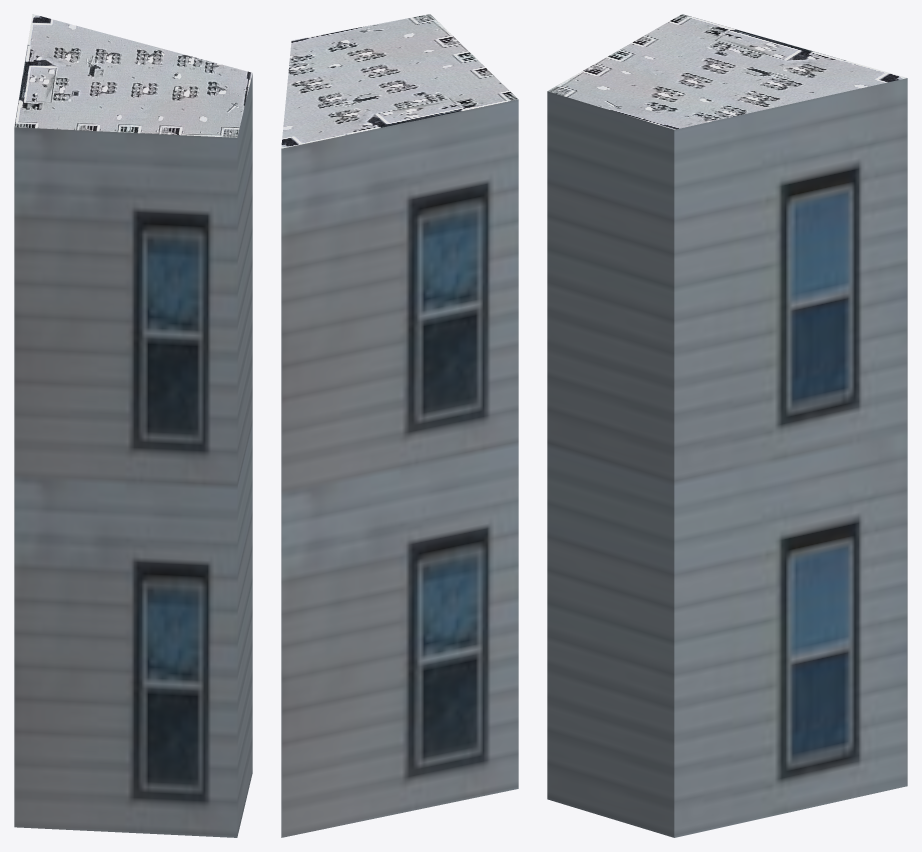
File: ResTex__3726.fbx
The picture shows the model from 3 angles, left to right: view 1: azimuth 30°, elevation 25°; view 2: azimuth 150°, elevation 25°; view 3: azimuth 270°, elevation 25°; orthographic projection. The views are drawn at different scales.
Parts seen in each view (by area): view 1: CityEngineMaterial_18_m, CityEngineMaterial_4_m; view 2: CityEngineMaterial_18_m, CityEngineMaterial_4_m; view 3: CityEngineMaterial_18_m, CityEngineMaterial_4_m.
Boxes of the visible parts, x1,y1,x2,y2 form: CityEngineMaterial_18_m: (14, 74, 252, 837); CityEngineMaterial_4_m: (14, 14, 252, 137); CityEngineMaterial_18_m: (281, 99, 518, 837); CityEngineMaterial_4_m: (281, 14, 518, 148); CityEngineMaterial_18_m: (547, 78, 907, 837); CityEngineMaterial_4_m: (547, 14, 906, 129).
Bounding box in the file's own units: 2.1 × 6 × 2.77.
2 materials, 2 textured.
